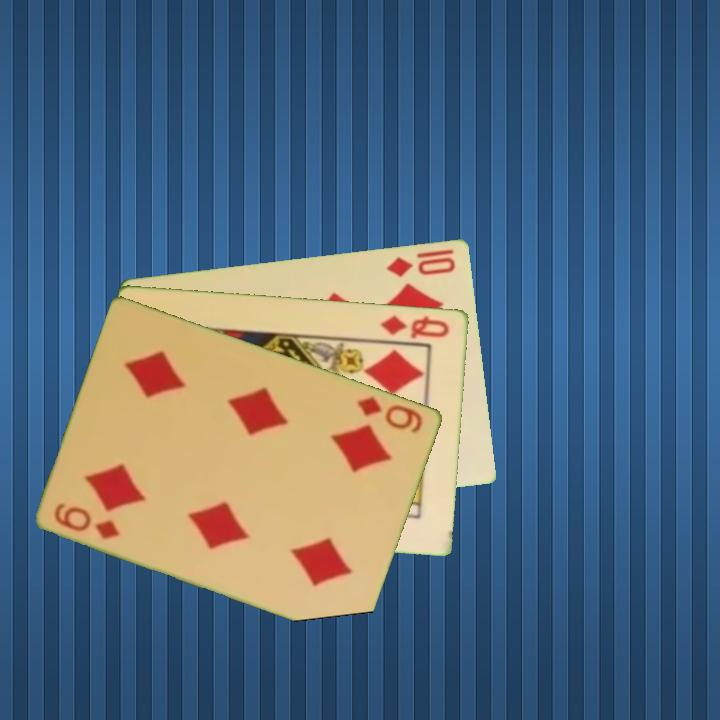10d: (383, 253, 459, 279)
6d: (353, 392, 426, 436), (51, 499, 124, 542)
Qd: (378, 311, 453, 342)
